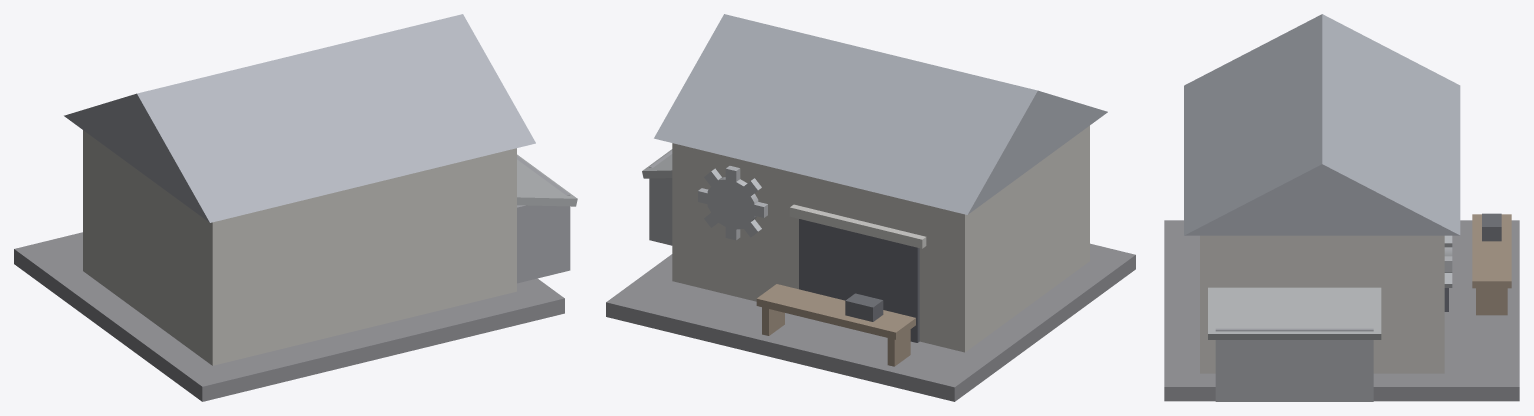
Rendered from kind-workshop.glb.
3 renders of one model, left to right at view 1: azimuth 30°, elevation 25°; view 2: azimuth 150°, elevation 25°; view 3: azimuth 270°, elevation 25°, orthographic. The views are drawn at different scales.
Visible parts, largest first — view 1: kind-workshop; view 2: kind-workshop; view 3: kind-workshop.
Boxes of the visible parts, x1,y1,x2,y2 form: kind-workshop: (14, 14, 577, 401); kind-workshop: (606, 14, 1135, 401); kind-workshop: (1164, 14, 1519, 401).
Bounding box in the file's own units: 1.1 × 0.64 × 0.9.
